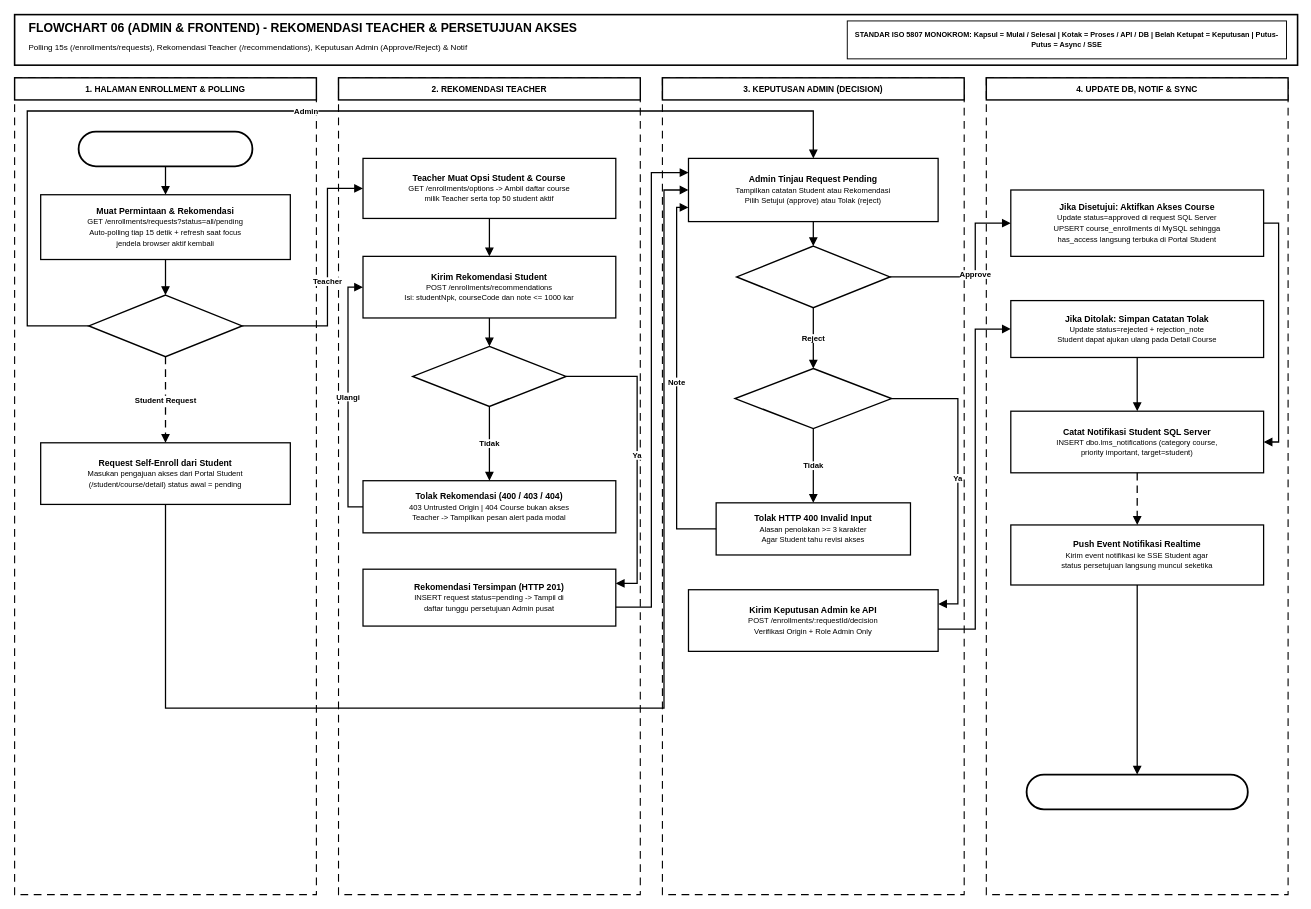
Some shapes in this 1311 by 909 pixel diagram are drawn without their labels. Here are the shapes that lost their labels. From the top down, the centre of each, then its label:
point (165, 148): BUKA MENU ENROLLMENT
point (813, 276): Pilihan Admin: Setujui / Tolak?
point (165, 325): Sumber & Aksi Permintaan Akses?
point (489, 376): Course Milik Teacher & Valid?
point (813, 398): Alasan Tolak >= 3 Karakter?
point (1136, 791): ENROLLMENT DIPUTUSKAN
